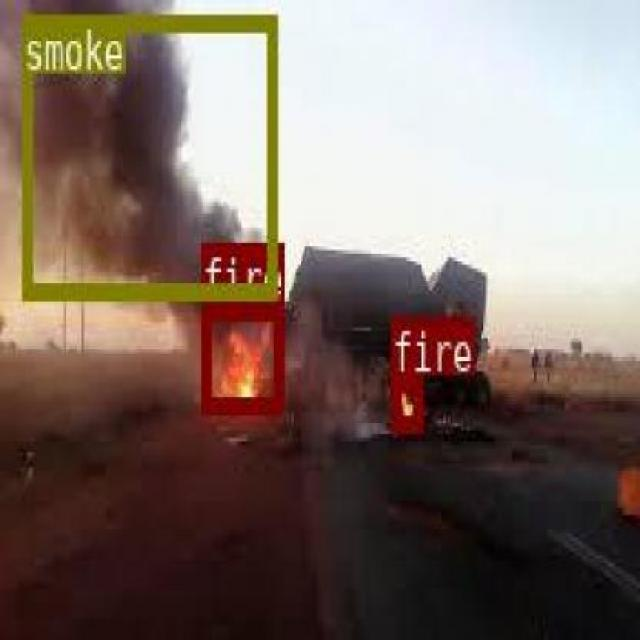Smoke: (0, 0, 211, 232)
